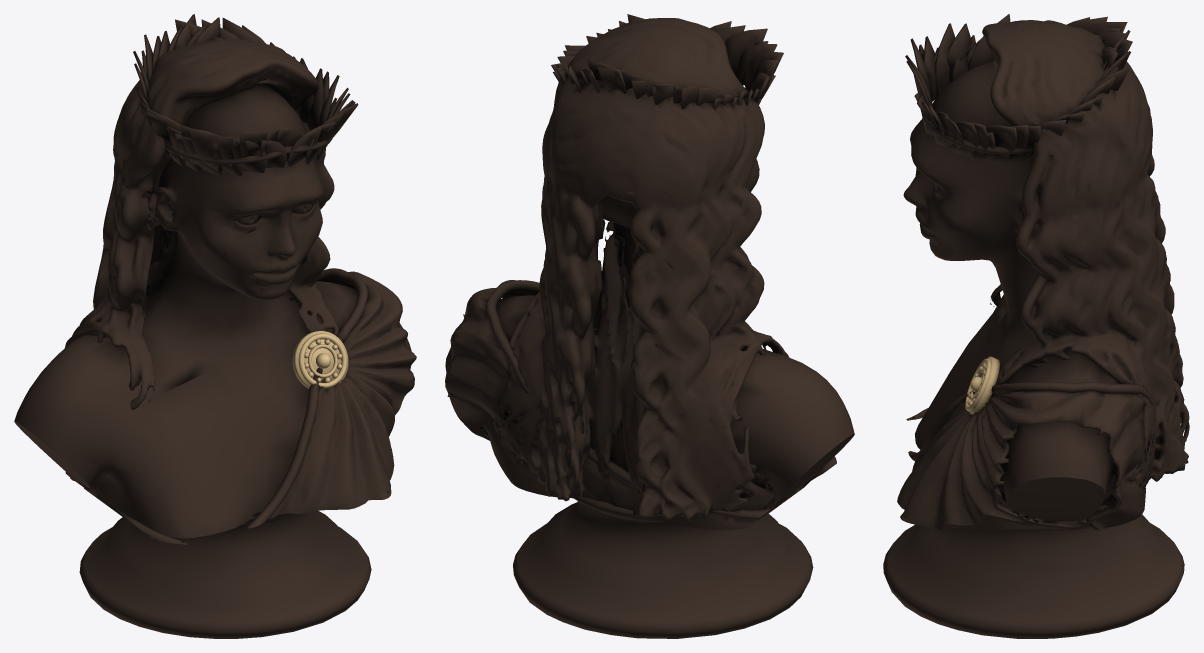
File: atenea-movil.glb
The picture shows the model from 3 angles, left to right: view 1: azimuth 30°, elevation 25°; view 2: azimuth 150°, elevation 25°; view 3: azimuth 270°, elevation 25°; orthographic projection. The views are drawn at different scales.
Visible parts, largest first — view 1: marble, gold; view 2: marble; view 3: marble, gold.
Boxes of the visible parts, bbox=[...] form: marble: bbox=[14, 14, 416, 638]; gold: bbox=[292, 331, 348, 388]; marble: bbox=[445, 14, 854, 638]; marble: bbox=[883, 14, 1189, 638]; gold: bbox=[965, 356, 999, 414].
Bounding box in the file's own units: 0.4635 × 0.6204 × 0.3153.
Materials: 2 (1 with a texture image).
